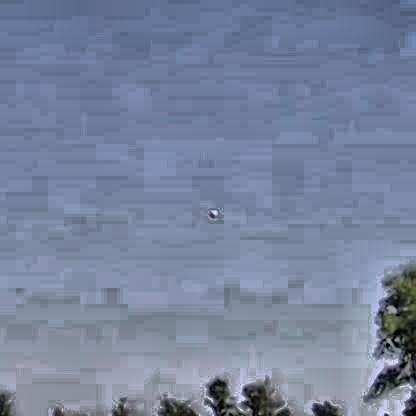golfball: (207, 207, 216, 216)
